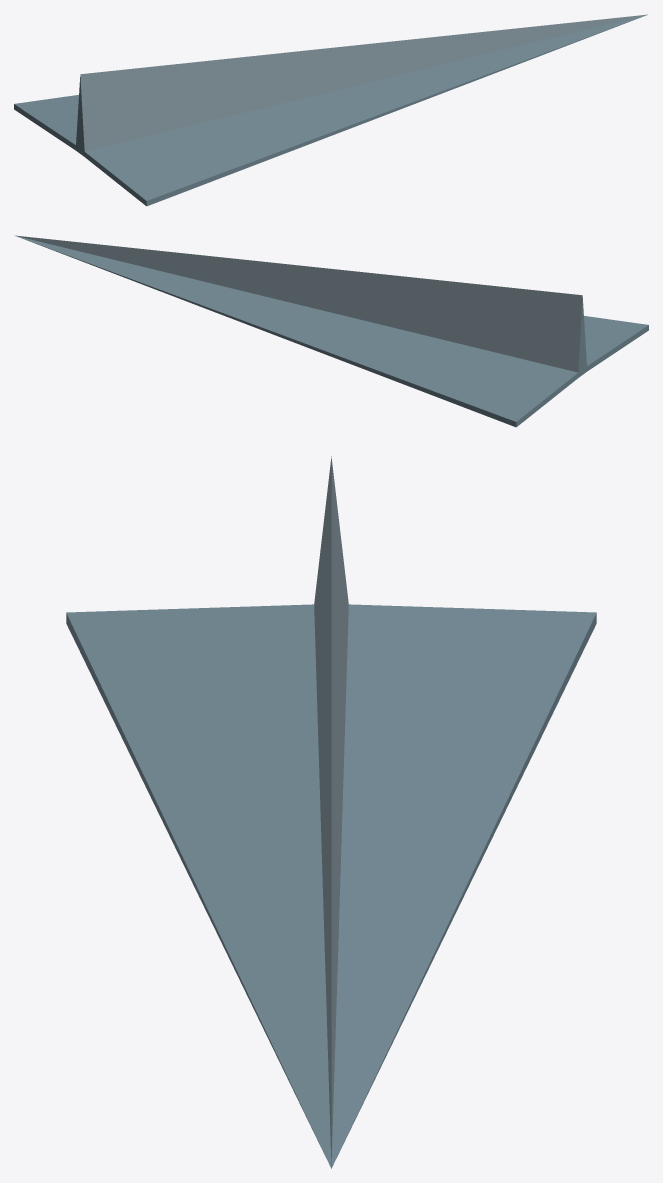
File: Paper_Plane.fbx
3 renders of one model, top to bottom at view 1: azimuth 30°, elevation 25°; view 2: azimuth 150°, elevation 25°; view 3: azimuth 270°, elevation 25°, orthographic. The views are drawn at different scales.
Visible parts, largest first — view 1: Paper_Plane; view 2: Paper_Plane; view 3: Paper_Plane.
Boxes of the visible parts, x1,y1,x2,y2 form: Paper_Plane: (14, 14, 647, 206); Paper_Plane: (15, 235, 648, 427); Paper_Plane: (66, 456, 596, 1168).
Bounding box in the file's own units: 19.15 × 2.69 × 7.73.
1 material, 1 textured.
